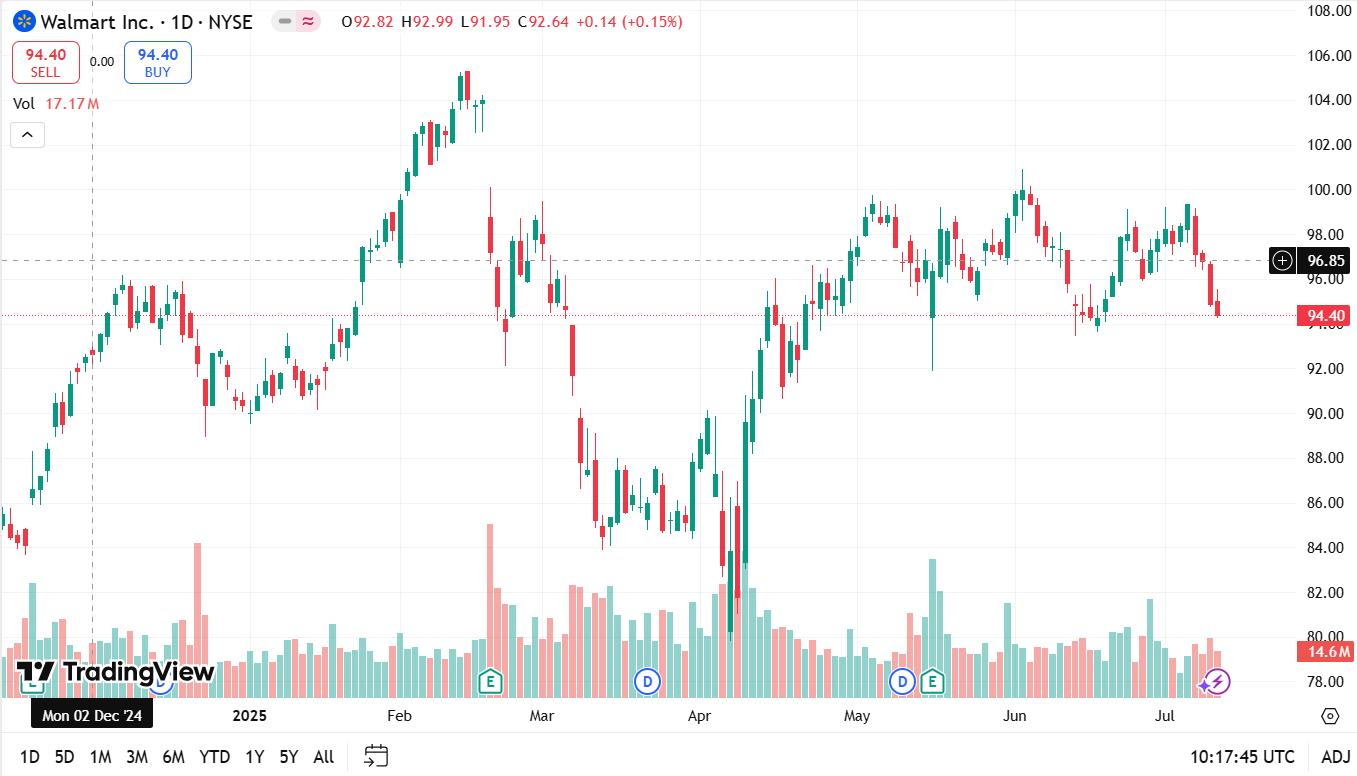Downtrend: (539, 196, 689, 558), (1026, 159, 1097, 365)
Sideways: (816, 183, 1111, 356)
Uptrend: (321, 59, 462, 416), (742, 180, 860, 552), (23, 245, 136, 565)
